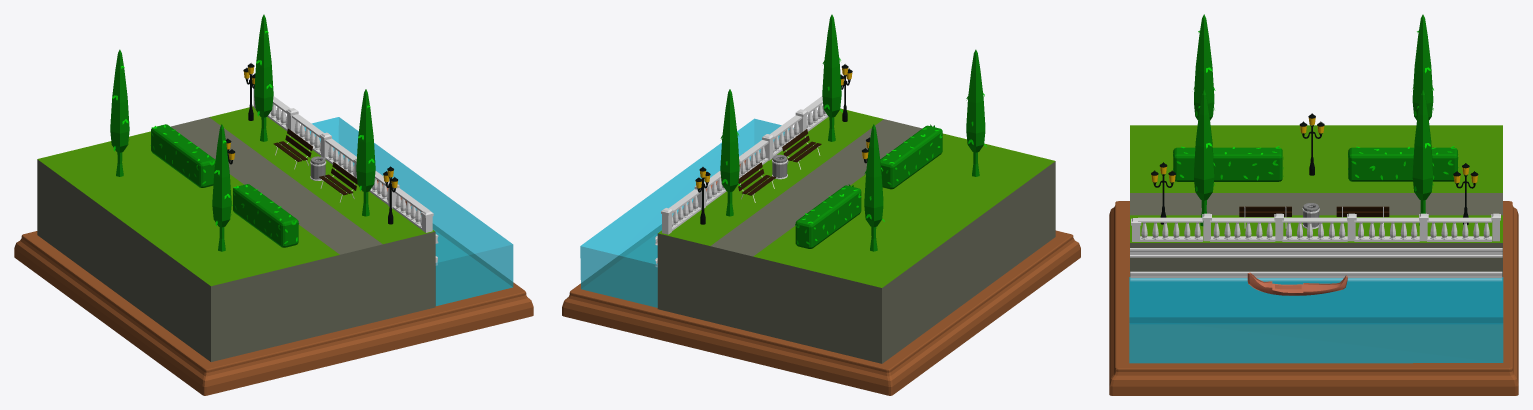
The model's file is Level3.FBX.
3 renders of one model, left to right at view 1: azimuth 30°, elevation 25°; view 2: azimuth 150°, elevation 25°; view 3: azimuth 270°, elevation 25°, orthographic. The views are drawn at different scales.
Parts seen in each view (by area): view 1: Object139; view 2: Object139; view 3: Object139.
Part boxes in pixels (bbox=[...]): Object139: bbox=[14, 14, 533, 395]; Object139: bbox=[562, 14, 1080, 395]; Object139: bbox=[1109, 14, 1518, 395].
Size of the model in its own units: 277 by 180 by 277.
